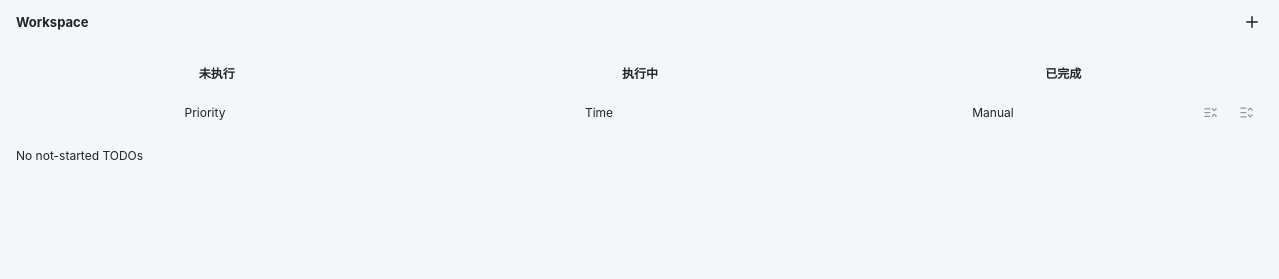
Test case: ProjectSidebar › positions task terminal launch menus as fixed overlays near the list bottom
Click the button with test id "todo-view-in-progress" at (640, 72), box top-left (431, 56), bottom-right (849, 88)
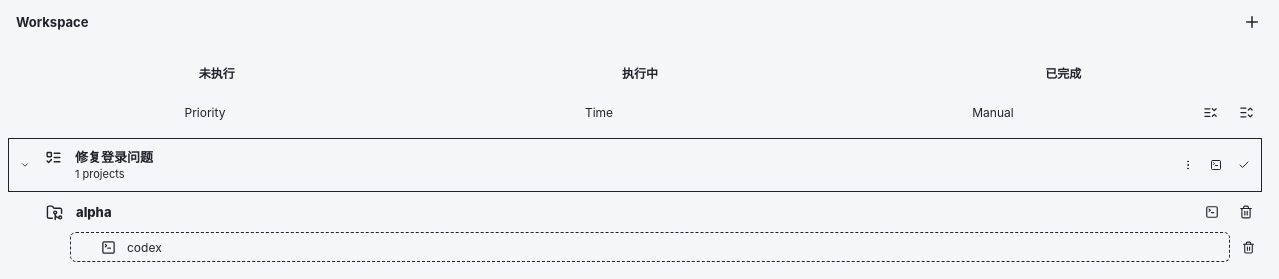
Click the button with test id "add-task-terminal-todo-a" at (1216, 165), box top-left (1203, 150), bottom-right (1229, 180)
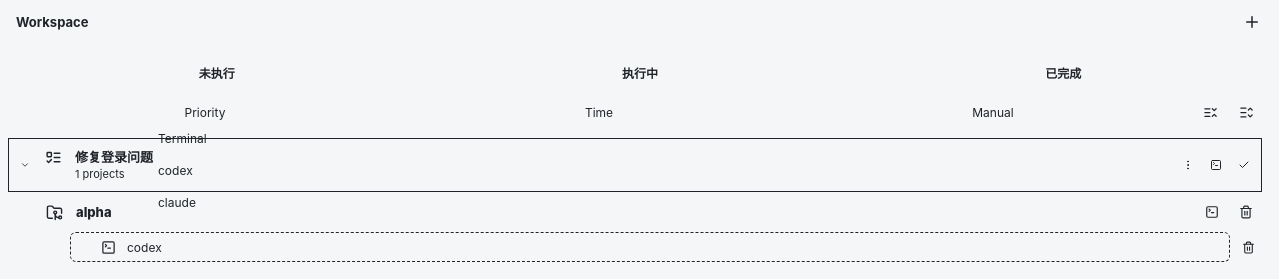
Now the element with test id "terminal-launch-menu-task-todo-a" is shown, box top-left (148, 122), bottom-right (280, 218)
